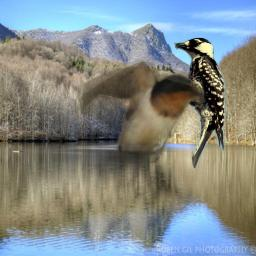Swallow: (75, 59, 204, 163)
Woodpecker: (172, 37, 228, 170)
